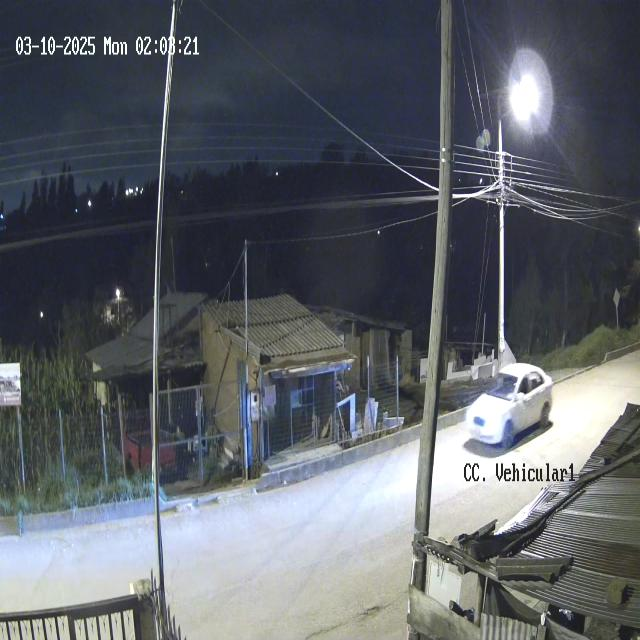SED: (464, 360, 554, 452)
